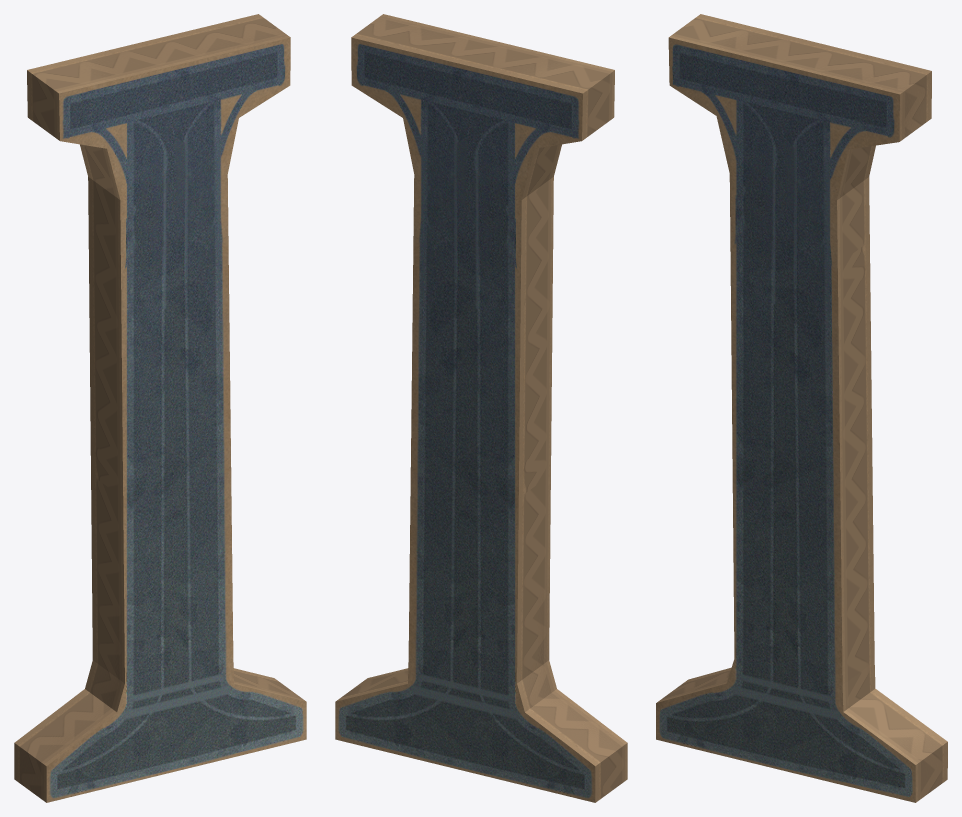
File: SM_Pillar_02.fbx
3 renders of one model, left to right at view 1: azimuth 30°, elevation 25°; view 2: azimuth 150°, elevation 25°; view 3: azimuth 330°, elevation 25°, orthographic.
Parts seen in each view (by area): view 1: Pillar001; view 2: Pillar001; view 3: Pillar001.
Part boxes in pixels (x1,y1,x2,y2): Pillar001: (14, 14, 306, 802); Pillar001: (335, 14, 627, 802); Pillar001: (656, 14, 947, 802).
Bounding box in the file's own units: 229 × 594 × 49.01.
